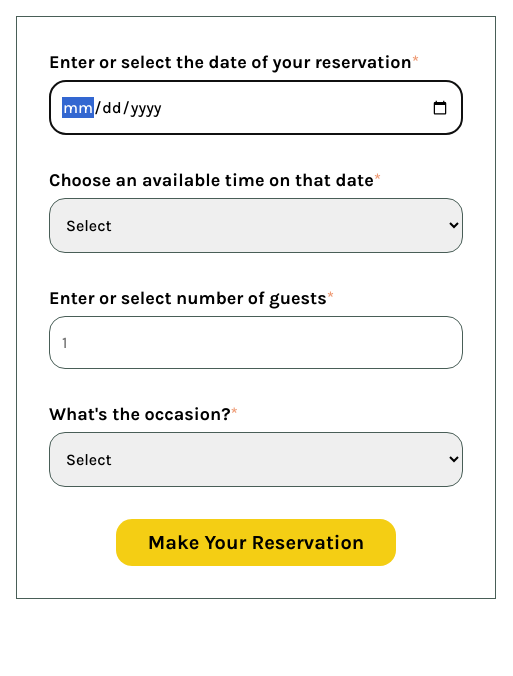
it: displays error messages for invalid input
The image size is (513, 676).
Note: Set reservationDateInput to a past date
Type "2020-01-01" into the date field labelled "Enter or select the date of your reservation*" at (256, 108), box [49,80,463,135]
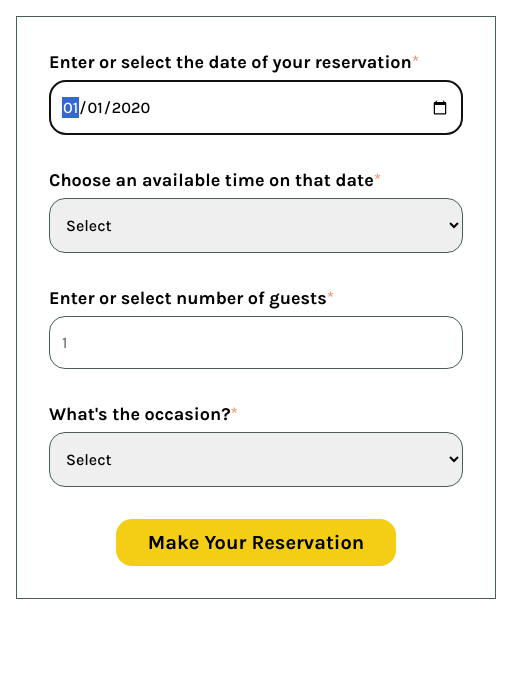
Note: Set guestCountInput to a number between 11 and 50
Type "15" into the number field labelled "Enter or select number of guests" at (256, 342), box [49,316,463,369]
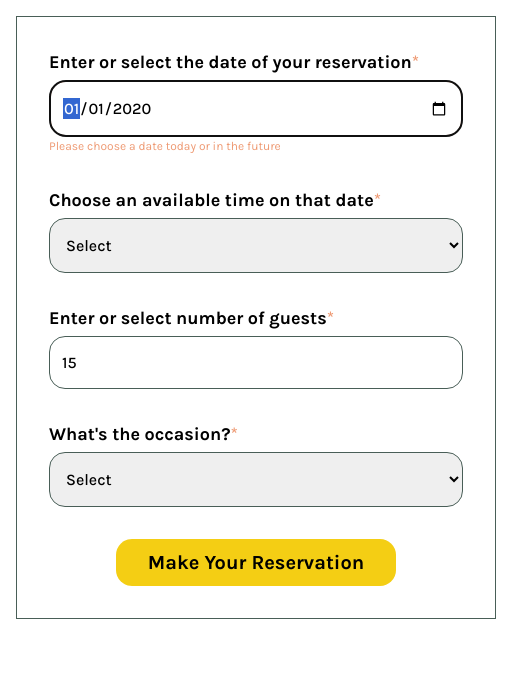
Leave the dropdown labelled "Choose an available time on that date", box [49,218,463,273]
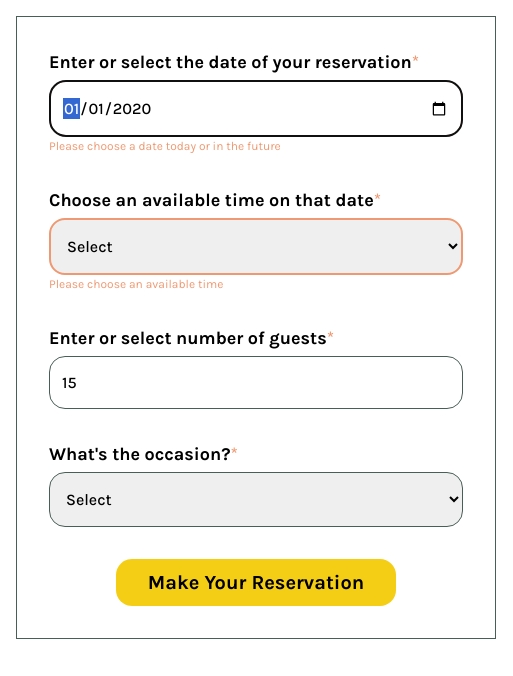
Leave the dropdown named "Choose the occasion for reservation", box [49,472,463,527]
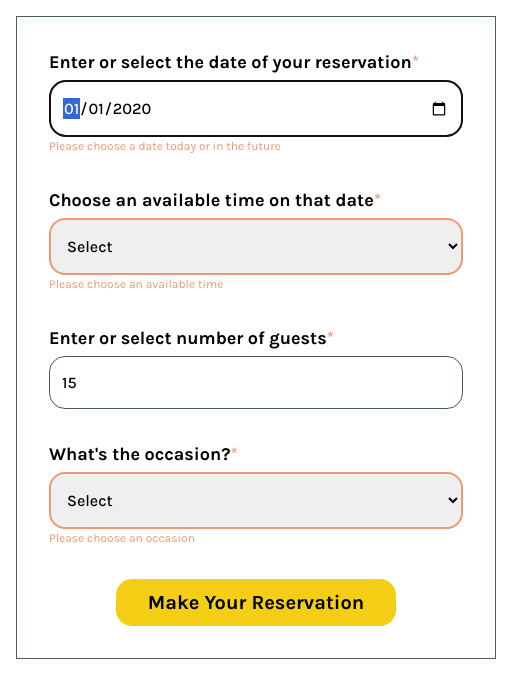
Expected: the text "Please choose a date today or in the future" is shown, [49,139,281,153]
Expected: the text "Please choose an available time" is shown, [49,277,223,291]
Expected: the text "Please choose an occasion" is shown, [49,531,195,545]
